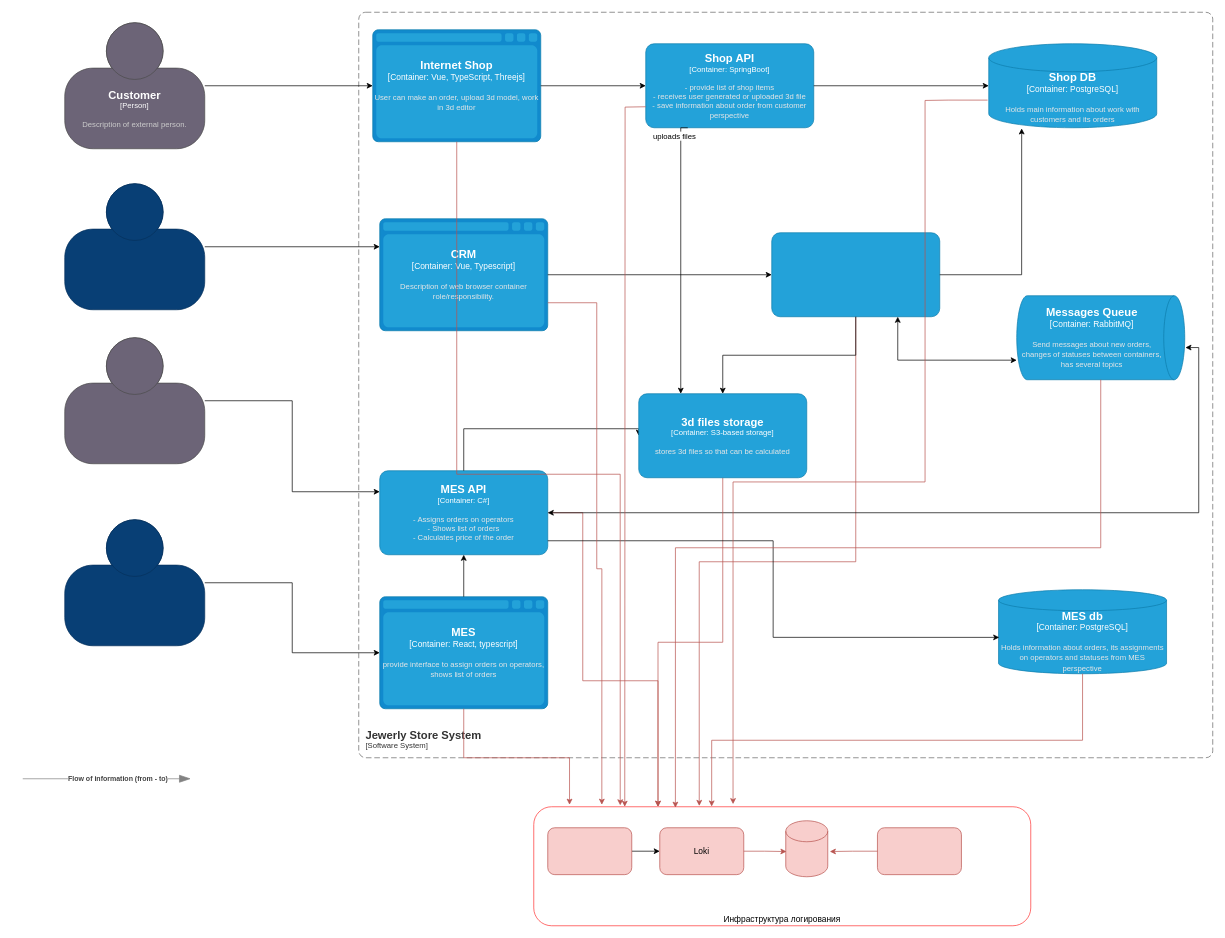
The diagram is 1225 pixels wide and 938 high, and some of its shapes have lost their labels. Each missing label, with the centre of its shape:
API user [Person] Description of external person.: the point at 134,400
CRM API [Container: SpringBoot] Description of container role/responsibility.: the point at 855,274
Grafana: the point at 919,851
Grafana DB: the point at 806,848
Operator [Person] Takes order in work, manufactures jewerly: the point at 134,582
Promtail/fluentbit: the point at 589,851
Seller [Person] Operates with order, confirms manufacturing for the user: the point at 134,246
